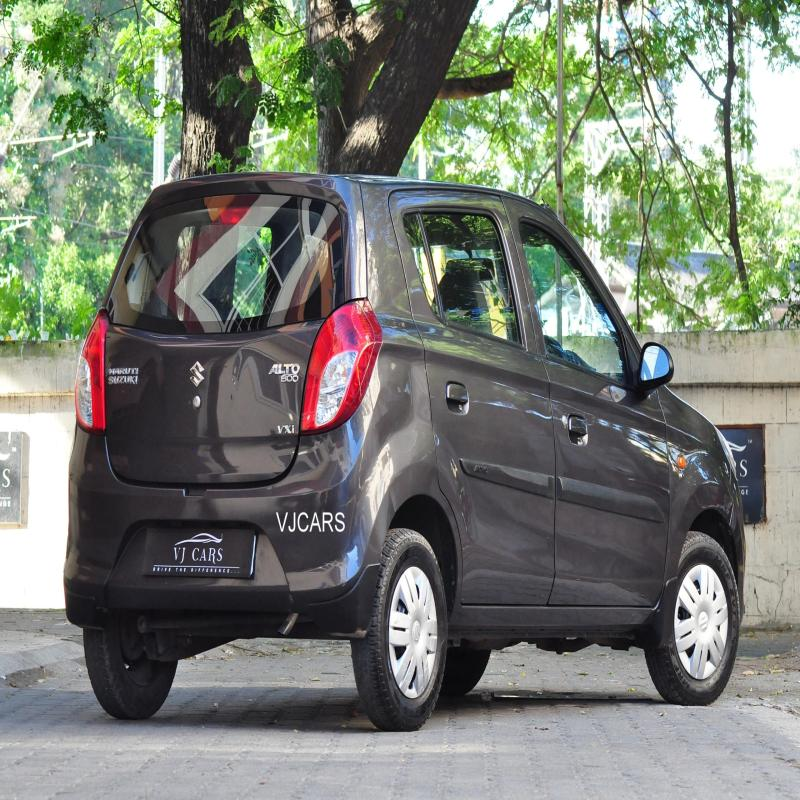car: (83, 149, 786, 694)
